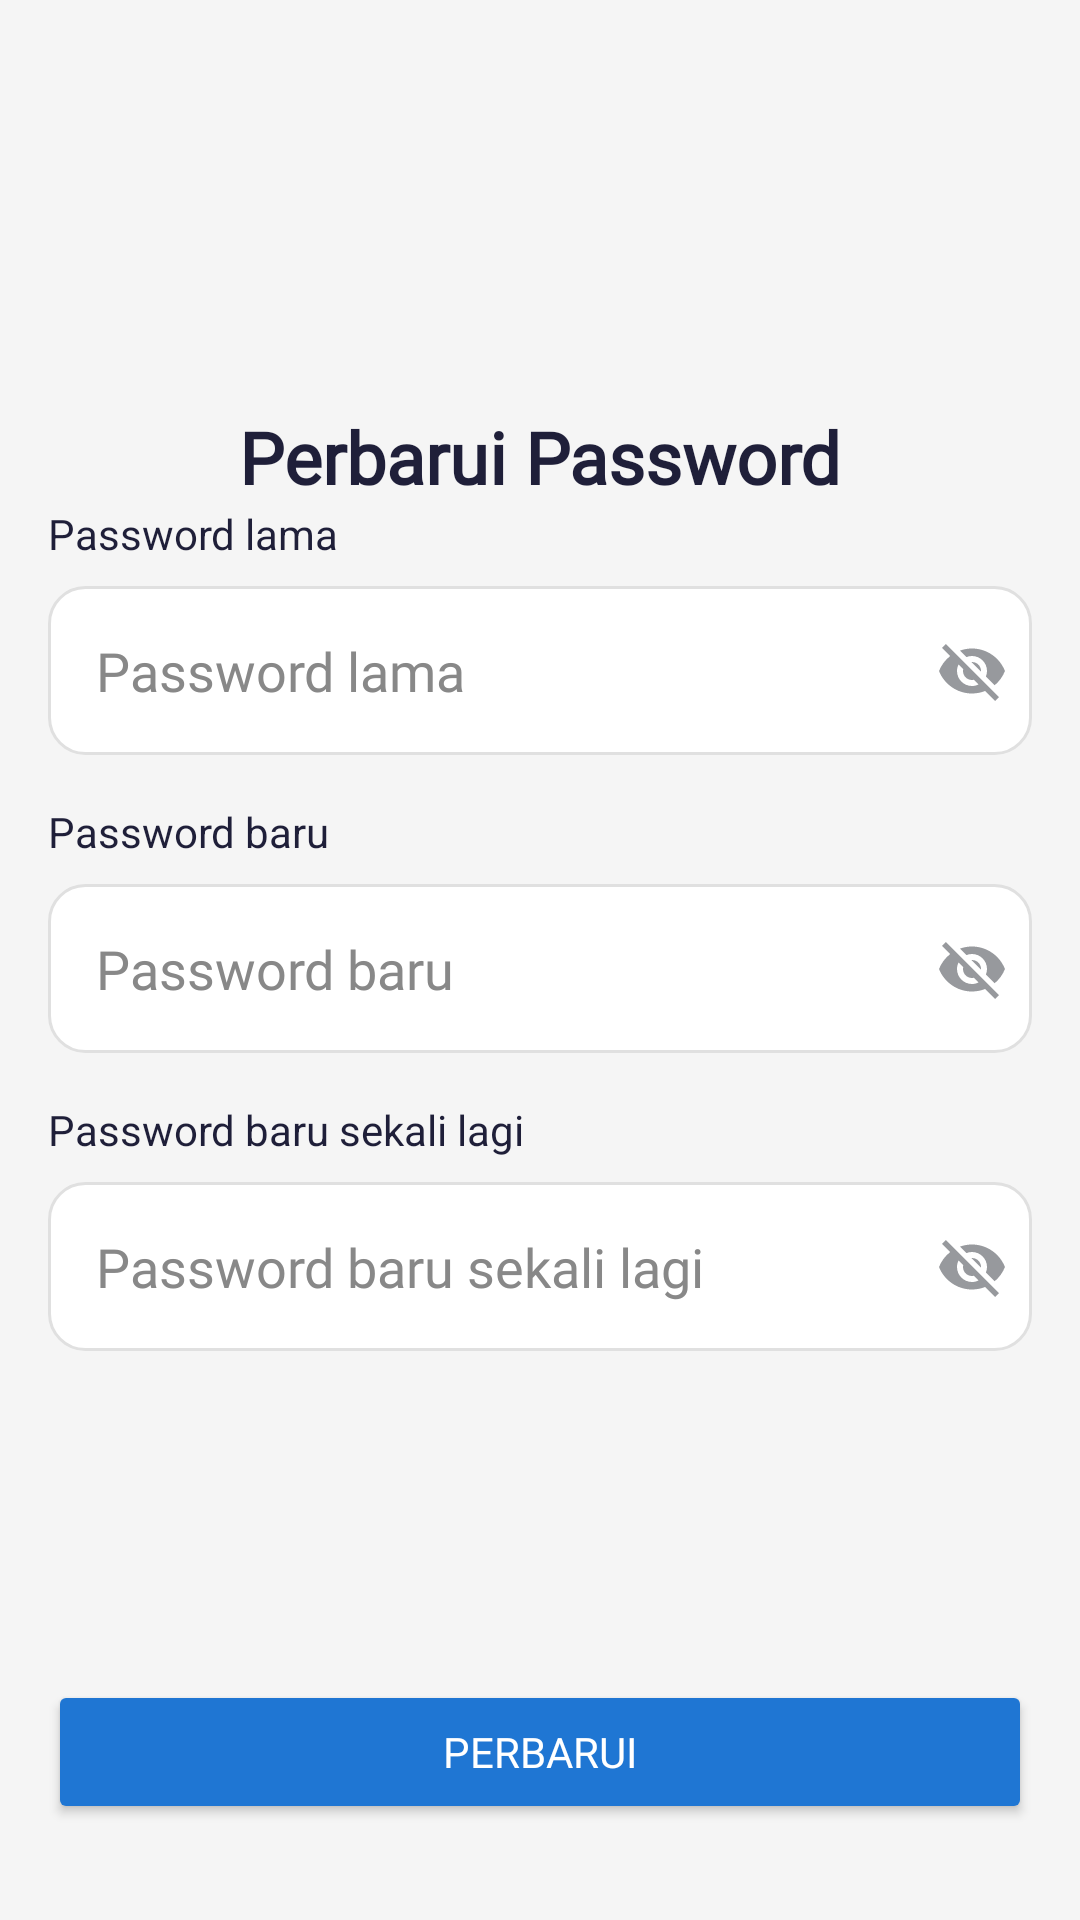

Screen size 1080px×1920px. Icon name, then its box in pixels as bbox(x1, y1, x2, y2):
Show Password: bbox(939, 644, 1005, 701), bbox(939, 942, 1005, 999), bbox(939, 1240, 1005, 1297)
